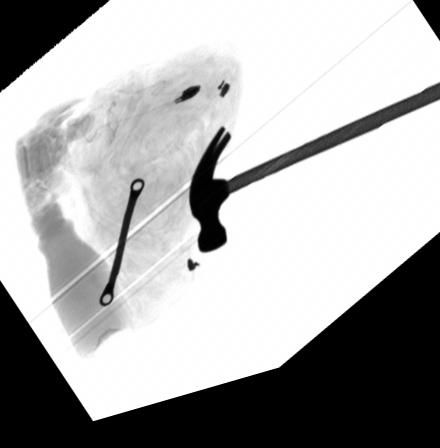Hammer: (188, 106, 440, 263)
Wrench: (97, 184, 145, 312)
